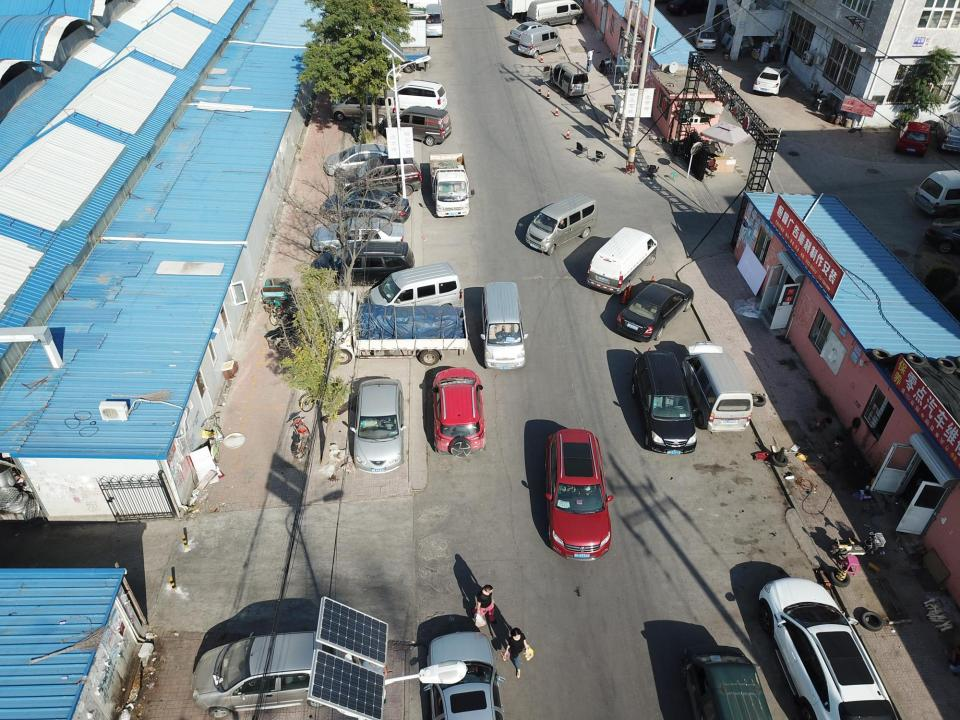car: (540, 426, 616, 560), (629, 350, 698, 454), (428, 367, 486, 457), (352, 378, 406, 474), (582, 224, 658, 292), (616, 276, 694, 342), (364, 264, 464, 315), (314, 242, 415, 283), (335, 154, 421, 196), (319, 188, 411, 224), (312, 219, 405, 252), (322, 143, 403, 178), (388, 104, 453, 146), (332, 91, 400, 126), (386, 82, 448, 111), (926, 215, 960, 254), (753, 61, 789, 96), (897, 117, 929, 156), (509, 22, 547, 43), (692, 26, 718, 51), (942, 124, 960, 154)
truck: (309, 291, 470, 366), (426, 153, 470, 218), (378, 43, 432, 72)
van: (758, 574, 898, 720), (680, 639, 770, 720), (682, 339, 754, 435), (525, 193, 597, 255), (480, 282, 529, 369), (913, 168, 960, 212), (548, 61, 589, 98), (526, 0, 583, 24), (517, 28, 562, 56), (423, 4, 445, 40)
